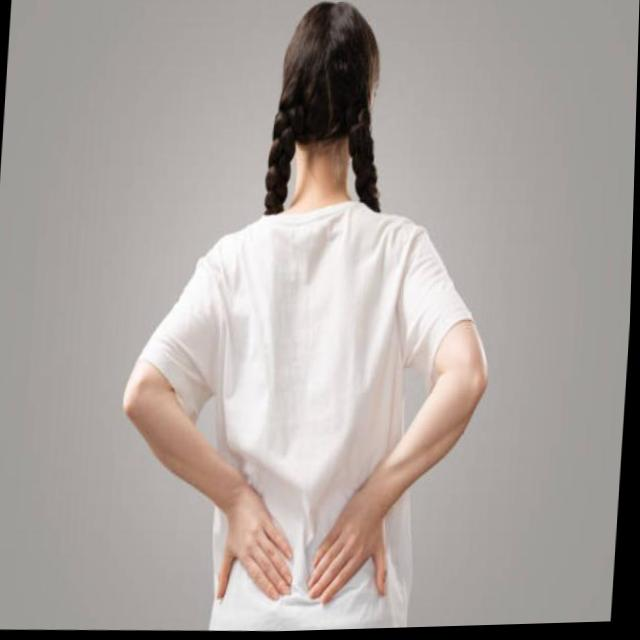no helmet: (272, 0, 390, 196)
